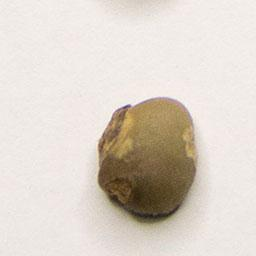defect: (91, 91, 204, 224)
